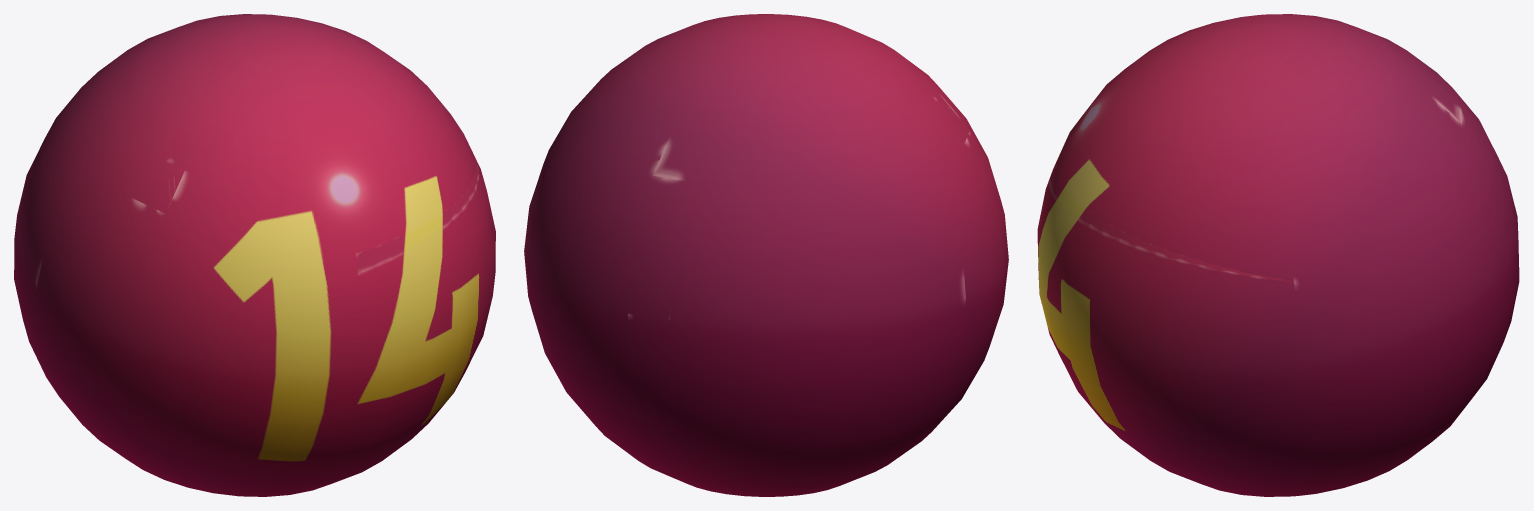
File: Enemy 14.fbx
The picture shows the model from 3 angles, left to right: view 1: azimuth 30°, elevation 25°; view 2: azimuth 150°, elevation 25°; view 3: azimuth 270°, elevation 25°; orthographic projection.
Visible parts, largest first — view 1: Body 1.013; view 2: Body 1.013; view 3: Body 1.013.
Boxes of the visible parts, <box> form: Body 1.013: <box>14,14,495,496</box>; Body 1.013: <box>524,14,1008,496</box>; Body 1.013: <box>1037,14,1519,496</box>.
Bounding box in the file's own units: 472 × 474 × 472.
1 material, 1 textured.
